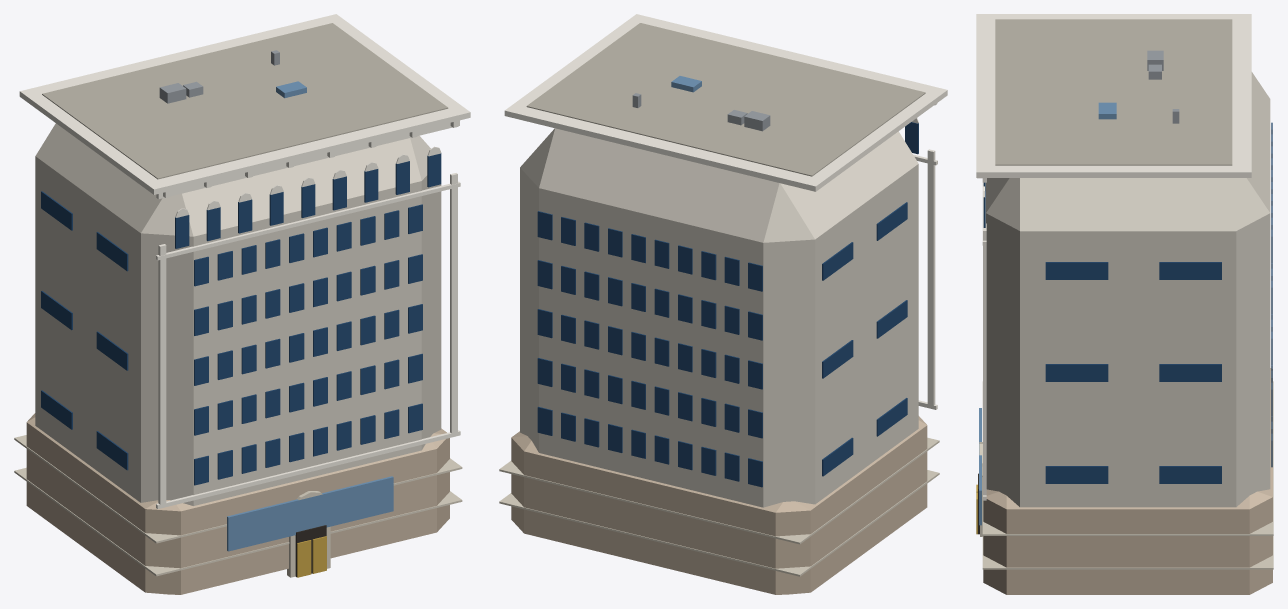
The model's file is office_f8_punched_w24.glb.
The picture shows the model from 3 angles, left to right: view 1: azimuth 30°, elevation 25°; view 2: azimuth 150°, elevation 25°; view 3: azimuth 270°, elevation 25°; orthographic projection. The views are drawn at different scales.
Visible parts, largest first — view 1: walls, roofslab, base, corn, baseglass, qpier, qpier.001, belt1, belt2, rustband, frieze, rustband.001 (+6 smaller); view 2: walls, base, roofslab, corn, qpier, rustband, rustband.001, sb.002, sb.004, sb.006, sb.010, sb.008 (+1 smaller); view 3: walls, roofslab, base, corn, rustband, rustband.001, sb.001, sb.005, sb.009, sb.003, sb.007, sb.011 (+1 smaller).
Boxes of the visible parts, x1=… form: walls: x1=35, y1=123, x2=441, y2=505; roofslab: x1=42, y1=23, x2=448, y2=179; base: x1=26, y1=413, x2=449, y2=594; corn: x1=19, y1=14, x2=470, y2=194; baseglass: x1=227, y1=476, x2=393, y2=551; qpier: x1=158, y1=244, x2=166, y2=507; qpier.001: x1=450, y1=173, x2=457, y2=437; belt1: x1=156, y1=430, x2=460, y2=508; belt2: x1=156, y1=181, x2=460, y2=260; rustband: x1=14, y1=467, x2=462, y2=576; frieze: x1=156, y1=120, x2=459, y2=199; rustband.001: x1=14, y1=435, x2=462, y2=543; walls: x1=520, y1=128, x2=918, y2=507; base: x1=511, y1=416, x2=927, y2=594; roofslab: x1=526, y1=23, x2=925, y2=176; corn: x1=504, y1=14, x2=947, y2=191; qpier: x1=927, y1=149, x2=935, y2=405; rustband: x1=499, y1=470, x2=939, y2=576; rustband.001: x1=499, y1=437, x2=939, y2=544; sb.002: x1=822, y1=437, x2=853, y2=476; sb.004: x1=876, y1=300, x2=907, y2=338; sb.006: x1=822, y1=340, x2=853, y2=378; sb.010: x1=822, y1=242, x2=853, y2=280; sb.008: x1=876, y1=202, x2=907, y2=240; walls: x1=986, y1=72, x2=1270, y2=507; roofslab: x1=995, y1=19, x2=1232, y2=165; base: x1=983, y1=368, x2=1272, y2=594; corn: x1=976, y1=14, x2=1251, y2=177; rustband: x1=982, y1=536, x2=1273, y2=569; rustband.001: x1=982, y1=381, x2=1273, y2=535; sb.001: x1=1045, y1=466, x2=1108, y2=483; sb.005: x1=1045, y1=364, x2=1108, y2=381; sb.009: x1=1045, y1=262, x2=1108, y2=279; sb.003: x1=1159, y1=466, x2=1221, y2=483; sb.007: x1=1159, y1=364, x2=1221, y2=381; sb.011: x1=1159, y1=262, x2=1221, y2=279.
Size of the model in its own units: 25.3 by 33.3 by 20.08.
